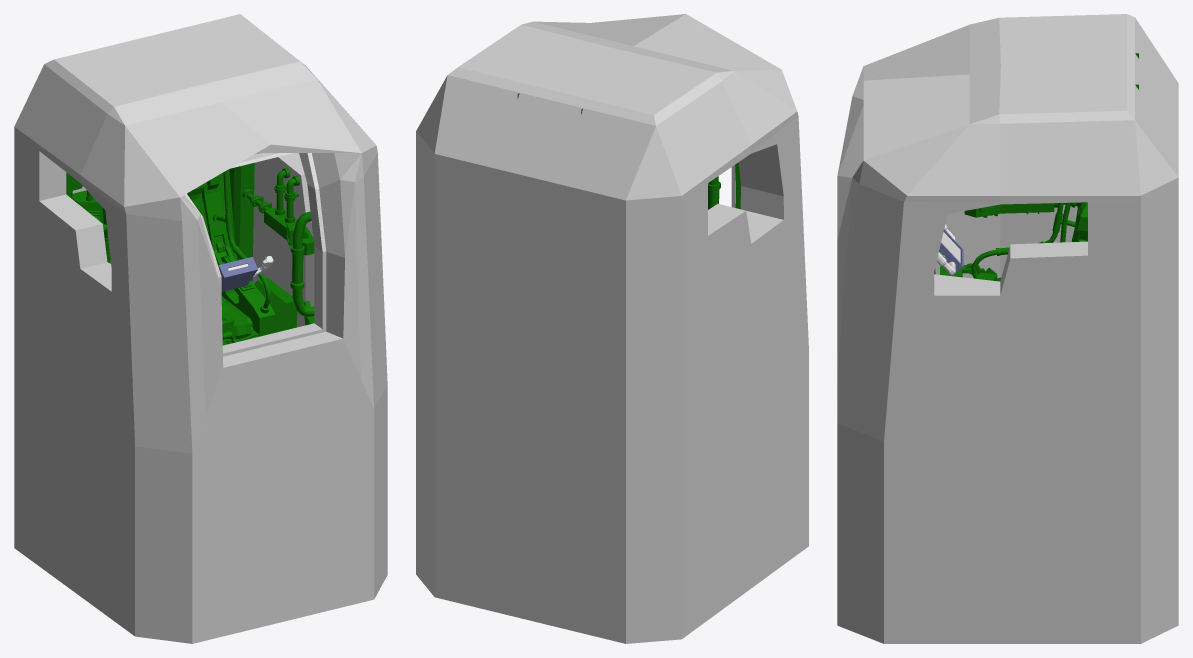
File: TurretCockpit_v1.0.fbx
3 renders of one model, left to right at view 1: azimuth 30°, elevation 25°; view 2: azimuth 150°, elevation 25°; view 3: azimuth 270°, elevation 25°, orthographic. The views are drawn at different scales.
Visible parts, largest first — view 1: Cabin, VisorFrame, Cabin_Part.004_Low, Cabin_Part.020_Low, Cabin_Part.089_Low, Control, Cabin_Part_Low, Cabin_Part.003_Low, Cabin_Part.143_Low, Cabin_Part.034_Low, Cabin_Part.026_Low; view 2: Cabin; view 3: Cabin, Cabin_Part.034_Low, Control, Cabin_Part.026_Low.
Part boxes in pixels (x1,y1,x2,y2): Cabin: (14, 14, 387, 643); VisorFrame: (185, 153, 326, 356); Cabin_Part.004_Low: (102, 175, 275, 336); Cabin_Part.020_Low: (66, 162, 254, 281); Cabin_Part.089_Low: (254, 277, 297, 332); Control: (218, 257, 257, 291); Cabin_Part_Low: (191, 199, 251, 339); Cabin_Part.003_Low: (72, 169, 253, 330); Cabin_Part.143_Low: (292, 211, 314, 316); Cabin_Part.034_Low: (110, 207, 314, 260); Cabin_Part.026_Low: (223, 170, 270, 308); Cabin: (416, 14, 808, 643); Cabin: (837, 14, 1178, 643); Cabin_Part.034_Low: (964, 203, 1054, 217); Control: (939, 229, 963, 275); Cabin_Part.026_Low: (971, 202, 1071, 278).
Bounding box in the file's own units: 118 × 217 × 130.
